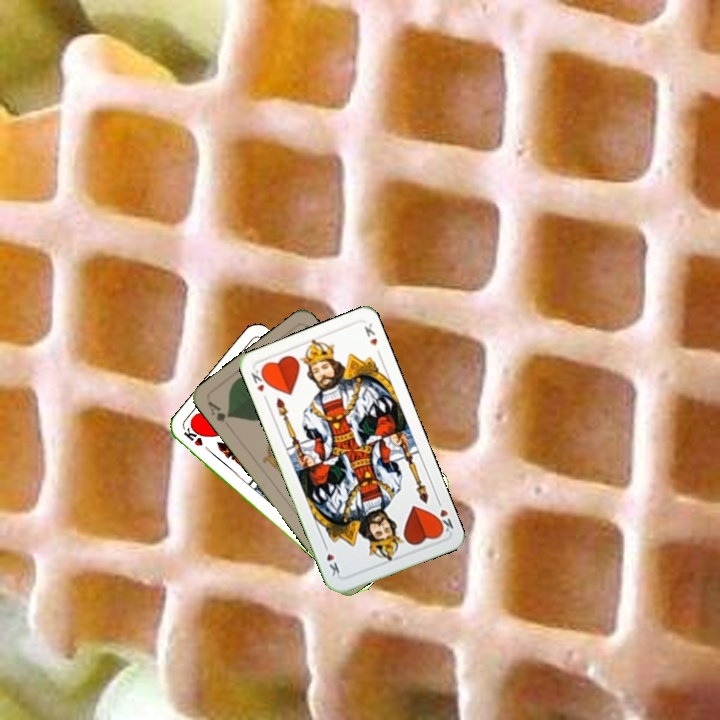GA: (203, 397, 233, 425)
HK: (179, 424, 215, 456), (431, 495, 456, 536), (247, 365, 271, 405)
